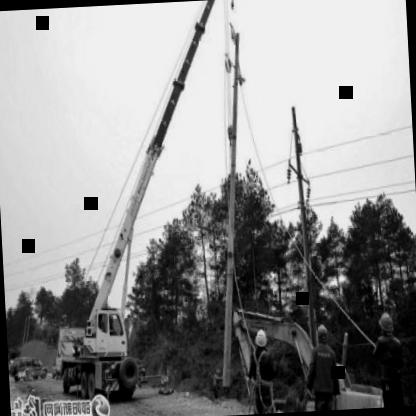helmet: (376, 310, 396, 338), (251, 325, 268, 350), (314, 320, 330, 344)
